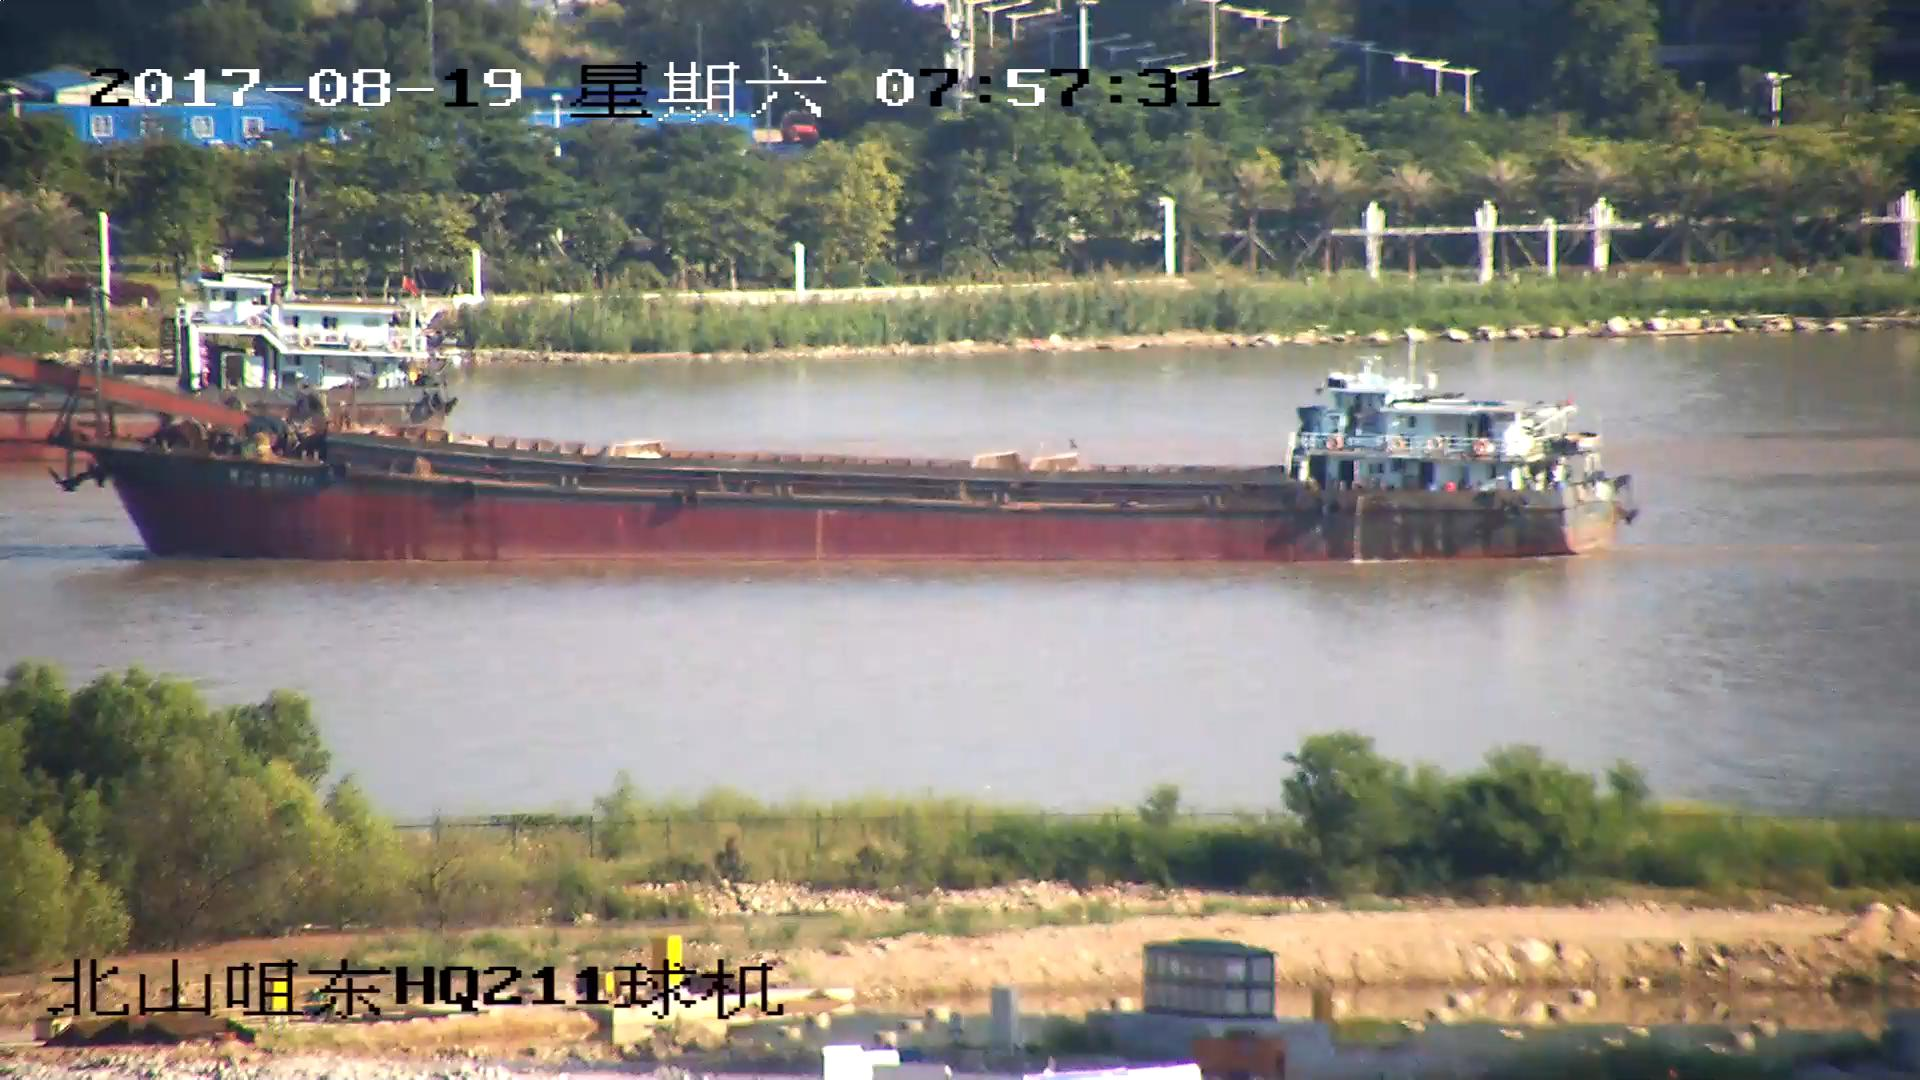bulk cargo carrier: (1, 323, 1644, 566)
